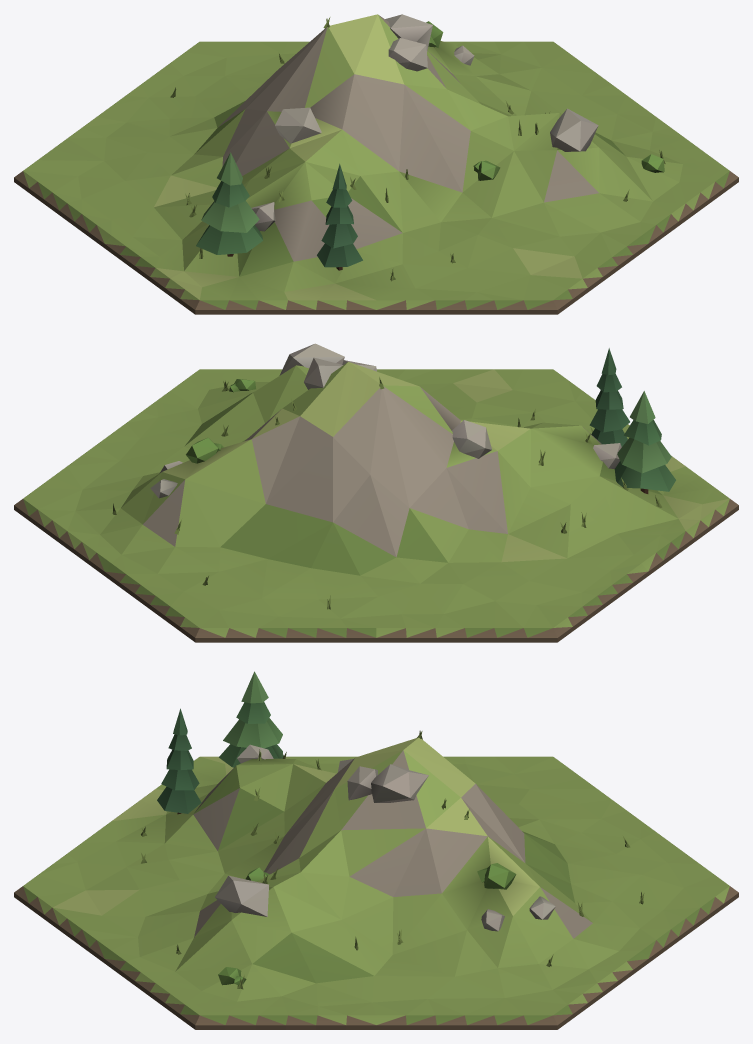
The model's file is hills_b.glb.
3 renders of one model, top to bottom at view 1: azimuth 30°, elevation 25°; view 2: azimuth 150°, elevation 25°; view 3: azimuth 270°, elevation 25°, orthographic.
Visible parts, largest first — view 1: hills_b; view 2: hills_b; view 3: hills_b.
Boxes of the visible parts, bbox=[...] form: hills_b: bbox=[14, 14, 738, 314]; hills_b: bbox=[14, 343, 738, 642]; hills_b: bbox=[14, 671, 738, 1029].
Bounding box in the file's own units: 17.32 × 4.74 × 20.
